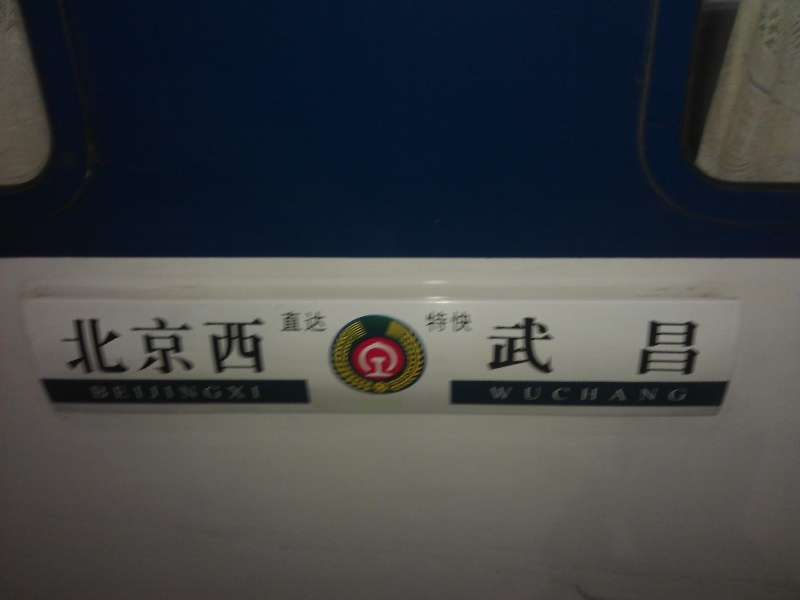text: (65, 311, 80, 379), (81, 311, 96, 379), (97, 311, 112, 379), (113, 311, 128, 379), (129, 311, 144, 379), (145, 311, 160, 379), (161, 311, 176, 379), (177, 311, 192, 379), (193, 311, 208, 379), (209, 311, 224, 379), (225, 311, 240, 379), (241, 311, 256, 379), (257, 311, 272, 379), (497, 317, 512, 376), (513, 317, 528, 376), (529, 317, 544, 376), (545, 317, 560, 376), (561, 317, 576, 376), (577, 317, 592, 376), (593, 317, 608, 376), (609, 317, 624, 376), (625, 317, 640, 376), (641, 317, 656, 376), (657, 317, 672, 376), (673, 317, 688, 376), (689, 317, 704, 376), (433, 309, 448, 335), (449, 309, 464, 335), (490, 317, 496, 376), (59, 311, 64, 379), (289, 311, 304, 333), (305, 311, 320, 333), (97, 381, 112, 402), (113, 381, 128, 402), (129, 381, 144, 402), (145, 381, 160, 402), (161, 381, 176, 402), (177, 381, 192, 402), (193, 381, 208, 402), (209, 381, 224, 402), (225, 381, 240, 402), (241, 381, 256, 402), (497, 385, 512, 404), (513, 385, 528, 404), (529, 385, 544, 404), (545, 385, 560, 404), (561, 385, 576, 404), (577, 385, 592, 404), (593, 385, 608, 404), (609, 385, 624, 404), (625, 385, 640, 404), (641, 385, 656, 404), (657, 385, 672, 404), (673, 385, 688, 404), (257, 381, 267, 402), (465, 309, 473, 335), (87, 381, 96, 402), (425, 309, 432, 335), (321, 311, 328, 333), (282, 311, 288, 333), (490, 385, 496, 404), (273, 311, 274, 379)
